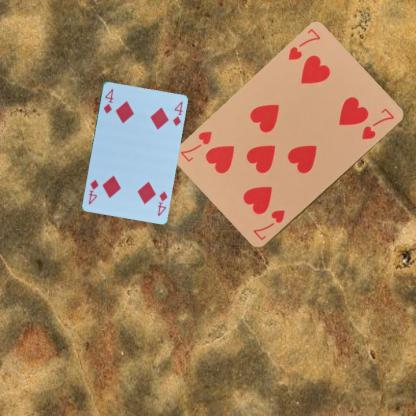4d: (155, 188, 169, 218), (101, 86, 115, 114)
7h: (285, 26, 322, 62), (250, 208, 287, 242)
